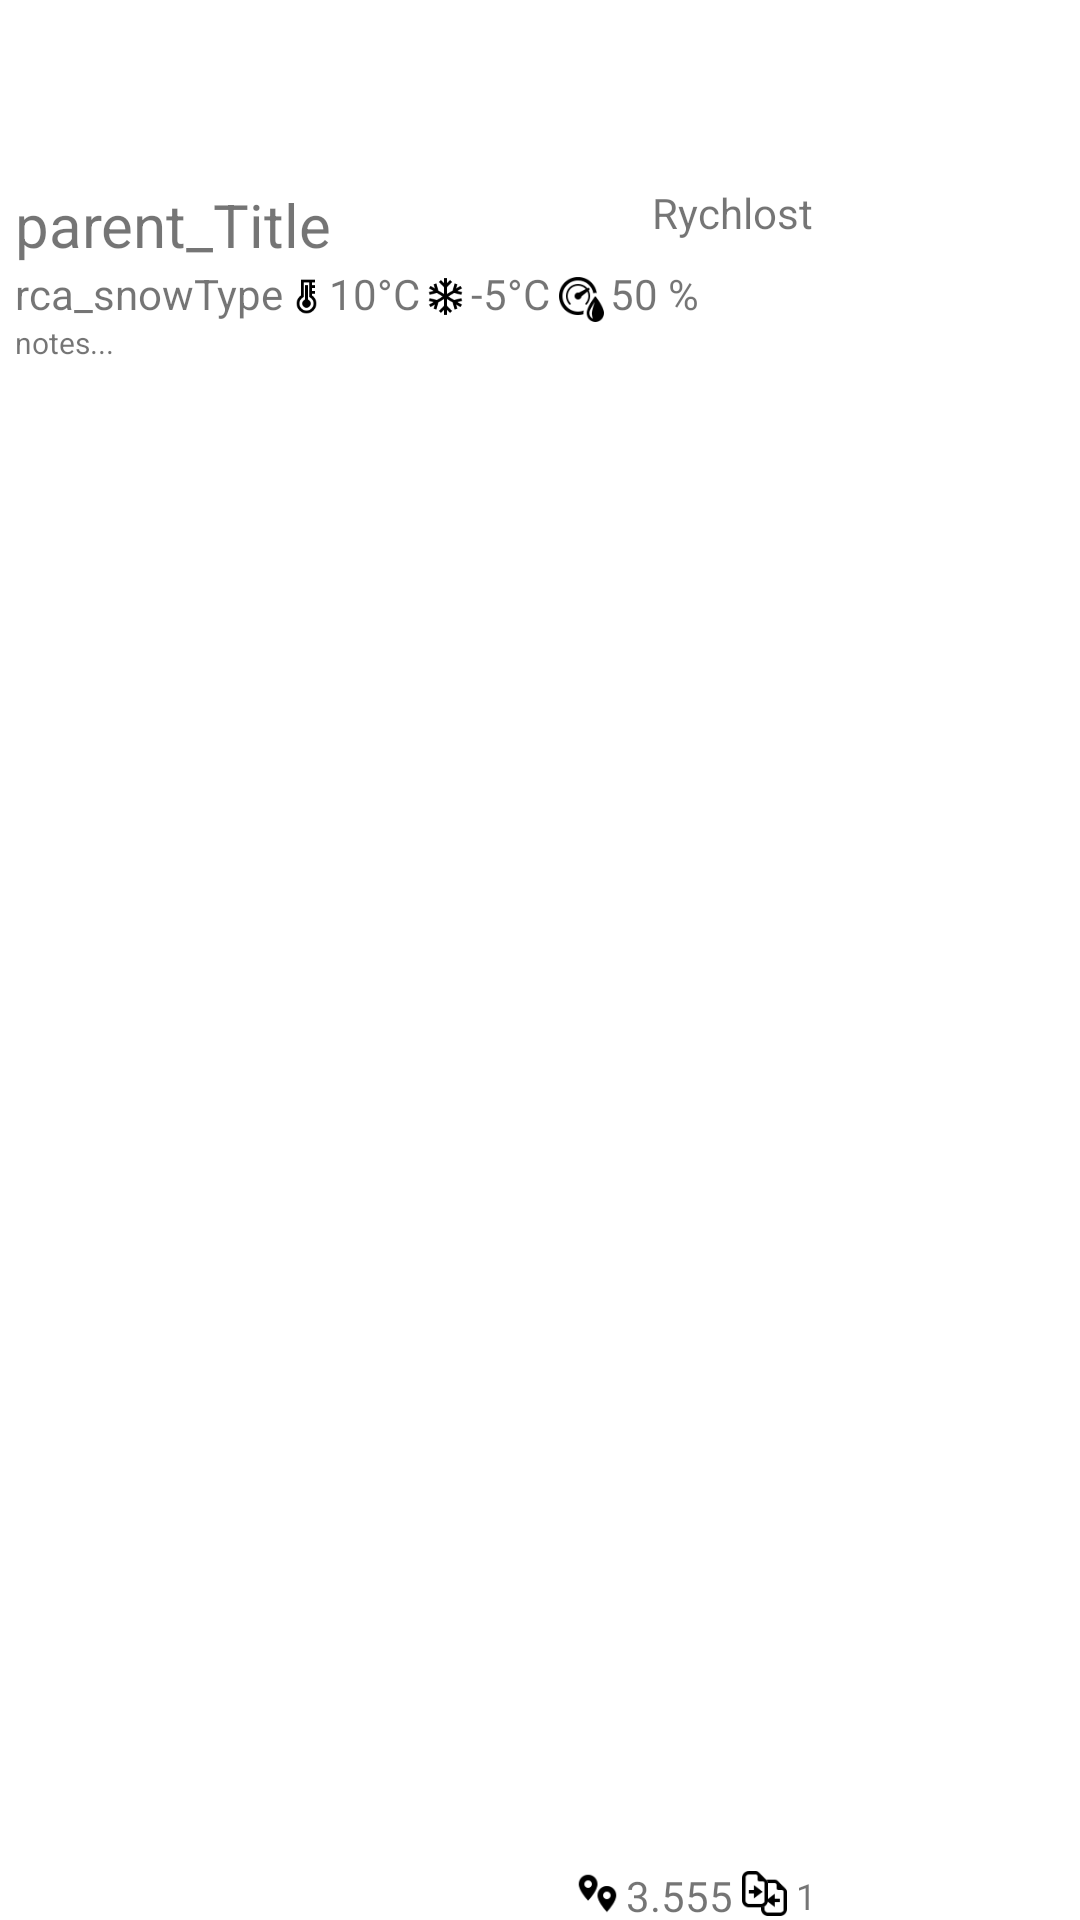

Named icons in this screenshot (1080x1920) and their centers, point (x, y):
compare: point (764, 1893)
humidity: point (581, 299)
map pinpoint: point (597, 1893)
snowflake: point (445, 296)
temperature: point (306, 296)
